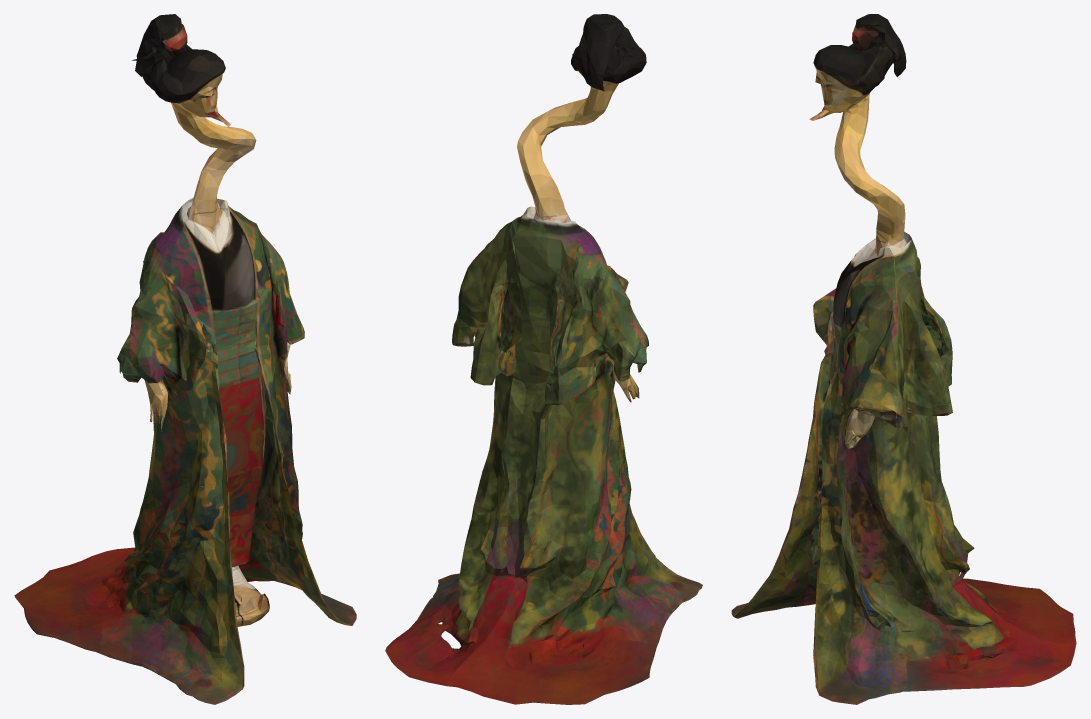
Rendered from Rokurokubi_0411091220_texture.fbx.
3 renders of one model, left to right at view 1: azimuth 30°, elevation 25°; view 2: azimuth 150°, elevation 25°; view 3: azimuth 270°, elevation 25°, orthographic. The views are drawn at different scales.
Visible parts, largest first — view 1: temp; view 2: temp; view 3: temp.
Part boxes in pixels (bbox=[...]): temp: bbox=[14, 14, 356, 704]; temp: bbox=[385, 14, 702, 704]; temp: bbox=[731, 14, 1076, 704].
Bounding box in the file's own units: 88.66 × 199 × 103.
1 material, 1 textured.
